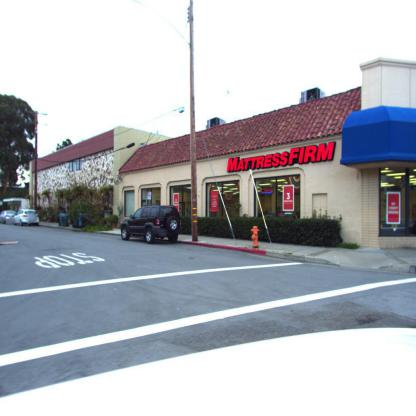car: (120, 204, 183, 244), (11, 209, 40, 226), (1, 211, 17, 225)
fire hydrant: (251, 225, 261, 249)
